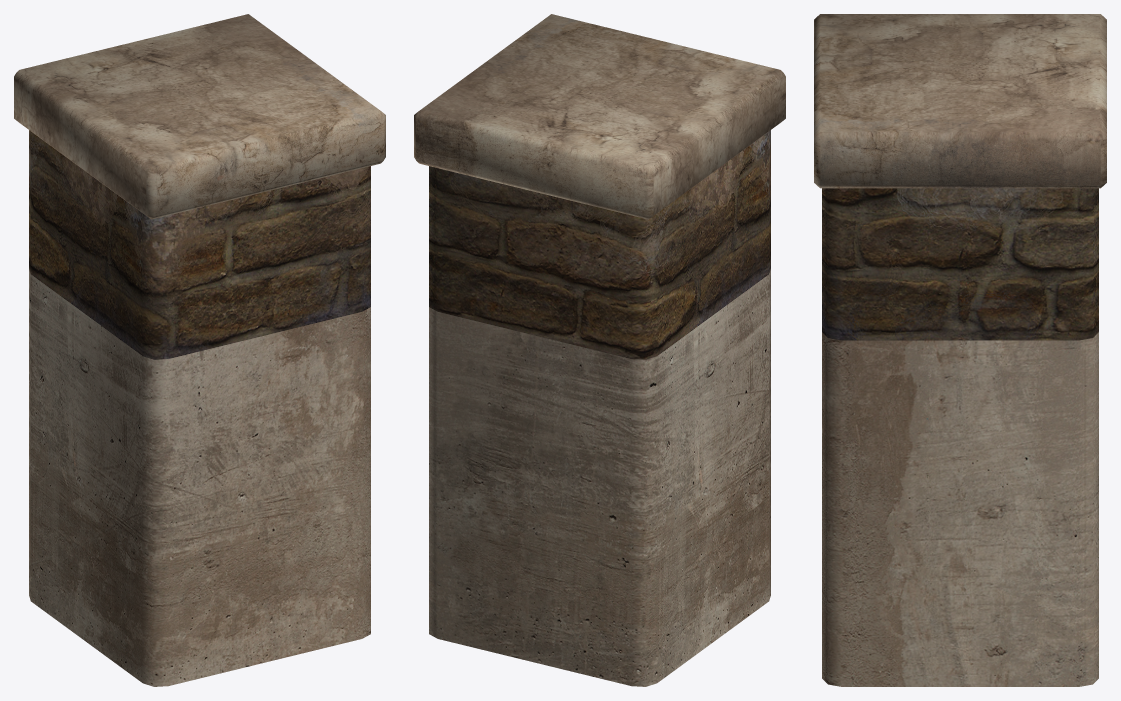
The model's file is wall_old_kol.fbx.
3 renders of one model, left to right at view 1: azimuth 30°, elevation 25°; view 2: azimuth 150°, elevation 25°; view 3: azimuth 270°, elevation 25°, orthographic. The views are drawn at different scales.
Visible parts, largest first — view 1: polySurface12; view 2: polySurface12; view 3: polySurface12.
Boxes of the visible parts, box(x1,y1,x2,y2) form: polySurface12: box(14, 14, 385, 686); polySurface12: box(414, 14, 785, 686); polySurface12: box(814, 14, 1106, 686).
Size of the model in its own units: 1.37 by 2.86 by 1.37.
